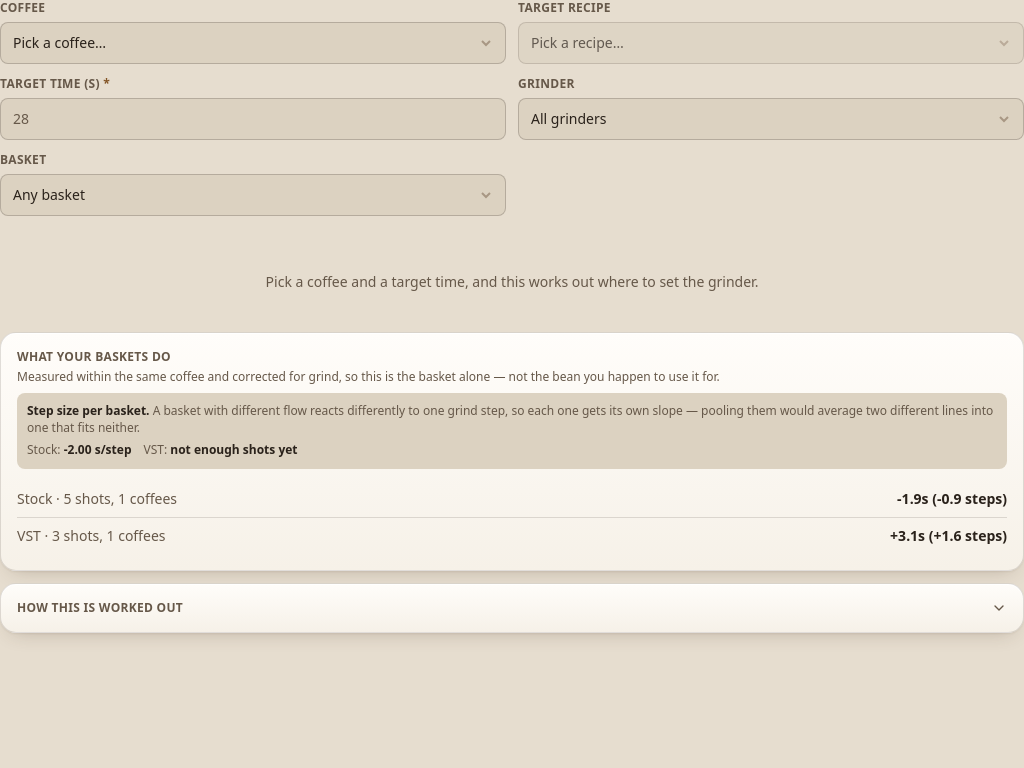
Test: the basket is part of the calculation, not decoration
The width and height of the screenshot is (1024, 768).
Select "Bean / R" in the dropdown labelled "Coffee" at (253,43), box [0,22,506,64]
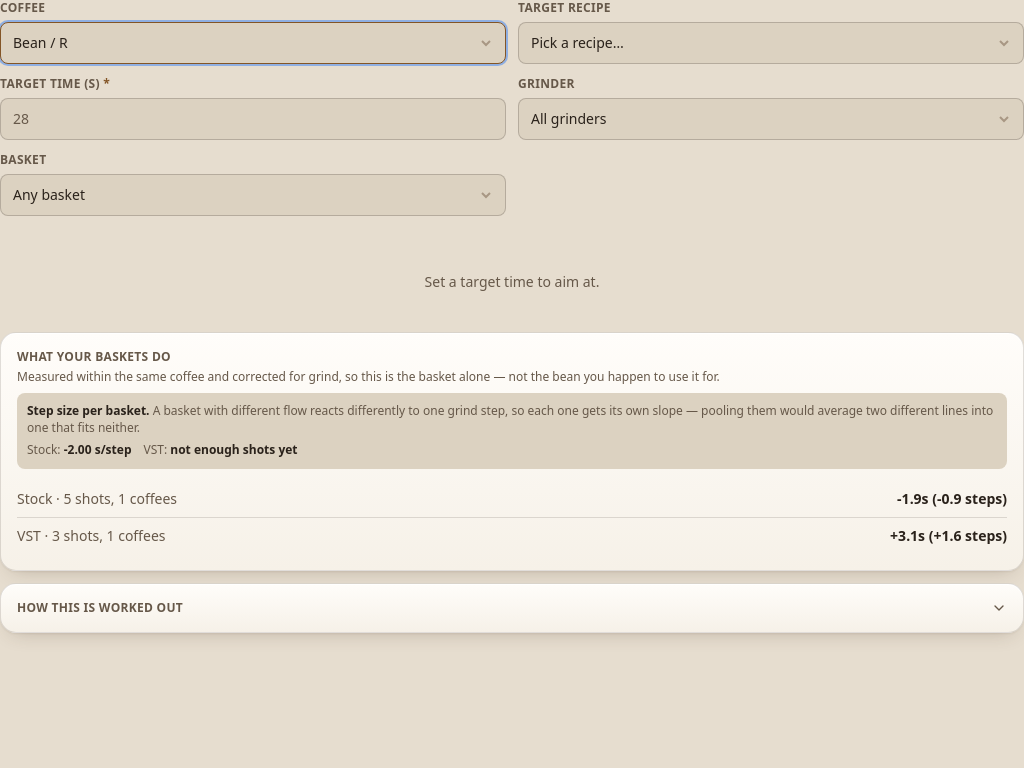
Select "My standard" in the dropdown labelled "Target recipe" at (771,43), box [518,22,1023,64]
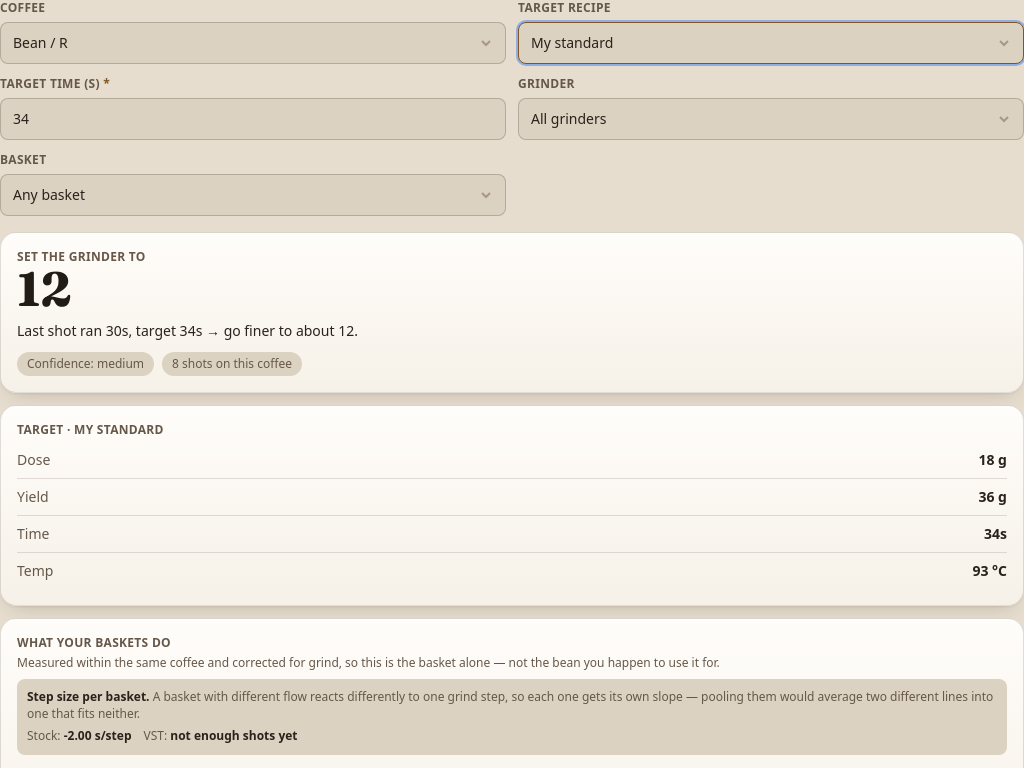
Select "VST · 20 g" in the dropdown labelled "Basket" at (253,195), box [0,174,506,216]
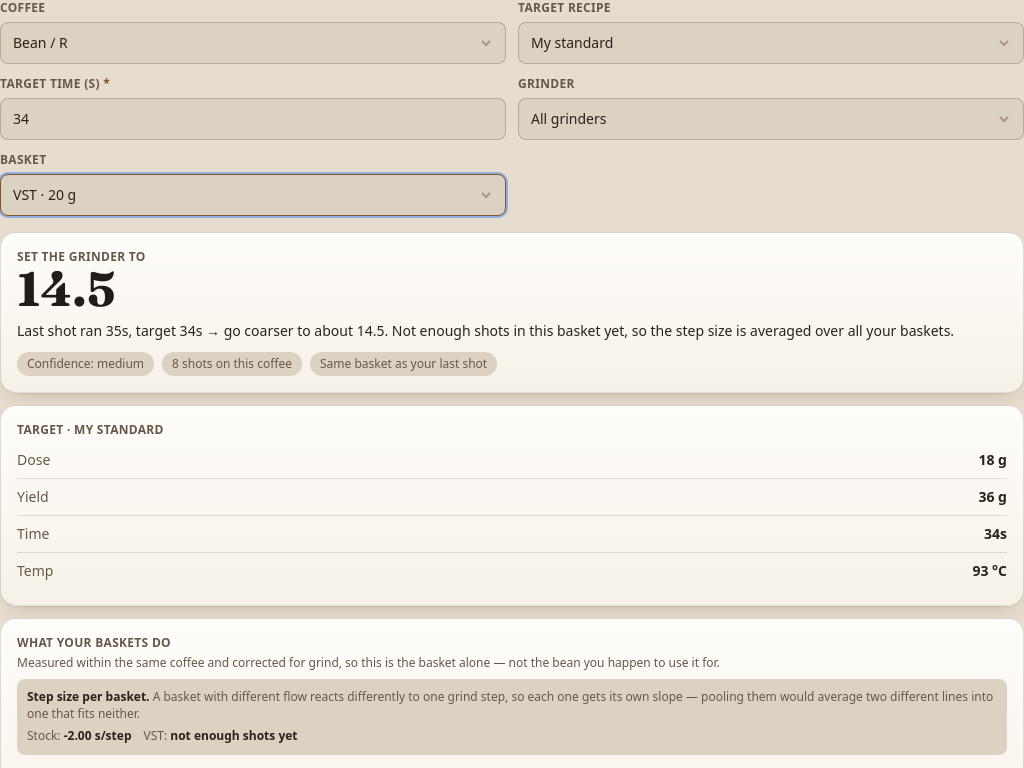
Now the text "Same basket as your last shot" is shown, box [310,352,497,376]
